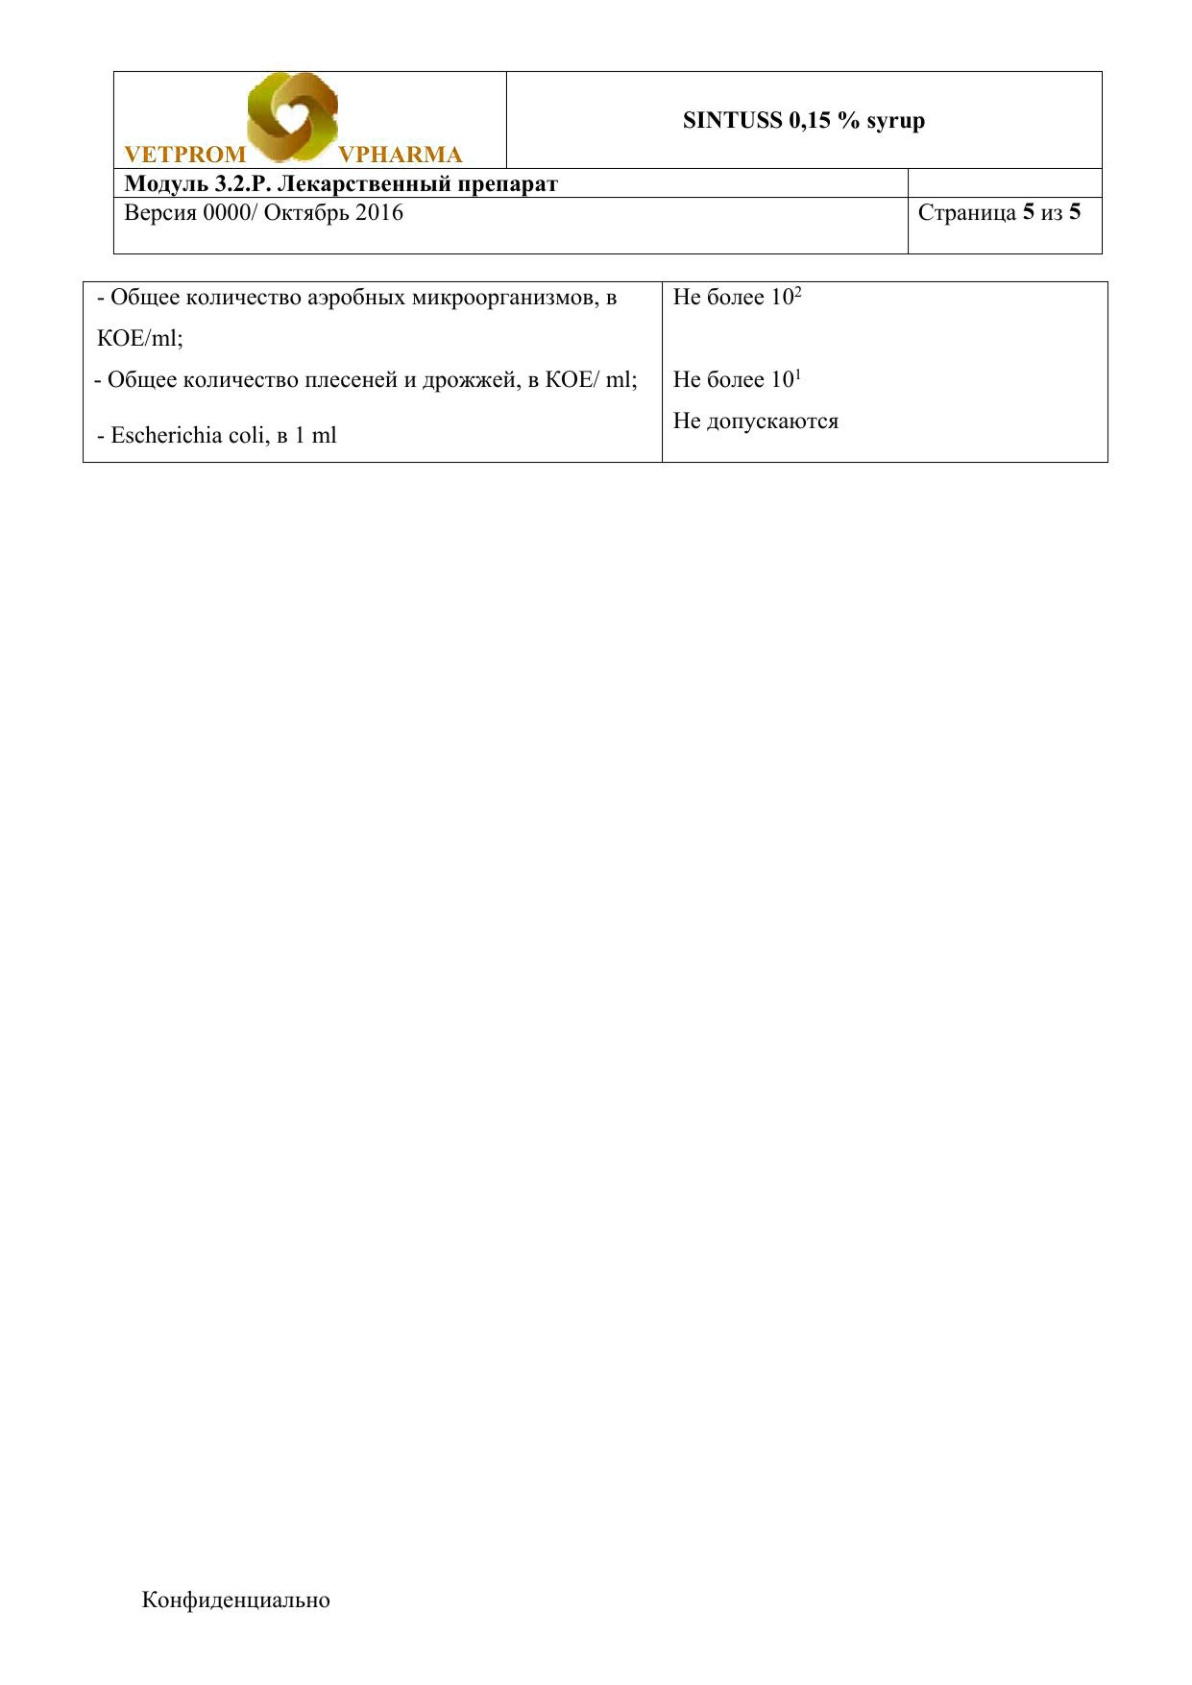merged_cells: (112, 68, 1104, 255)
partial_lined: (83, 279, 1109, 464)
